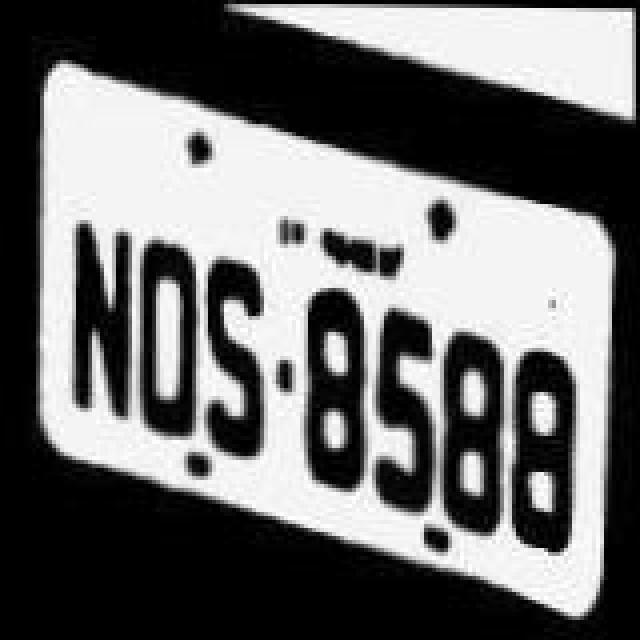5: (366, 298, 446, 522)
8: (502, 318, 586, 566), (292, 268, 376, 508), (438, 294, 518, 538)
N: (52, 216, 140, 444)
O: (128, 218, 208, 446)
S: (194, 248, 278, 456)
